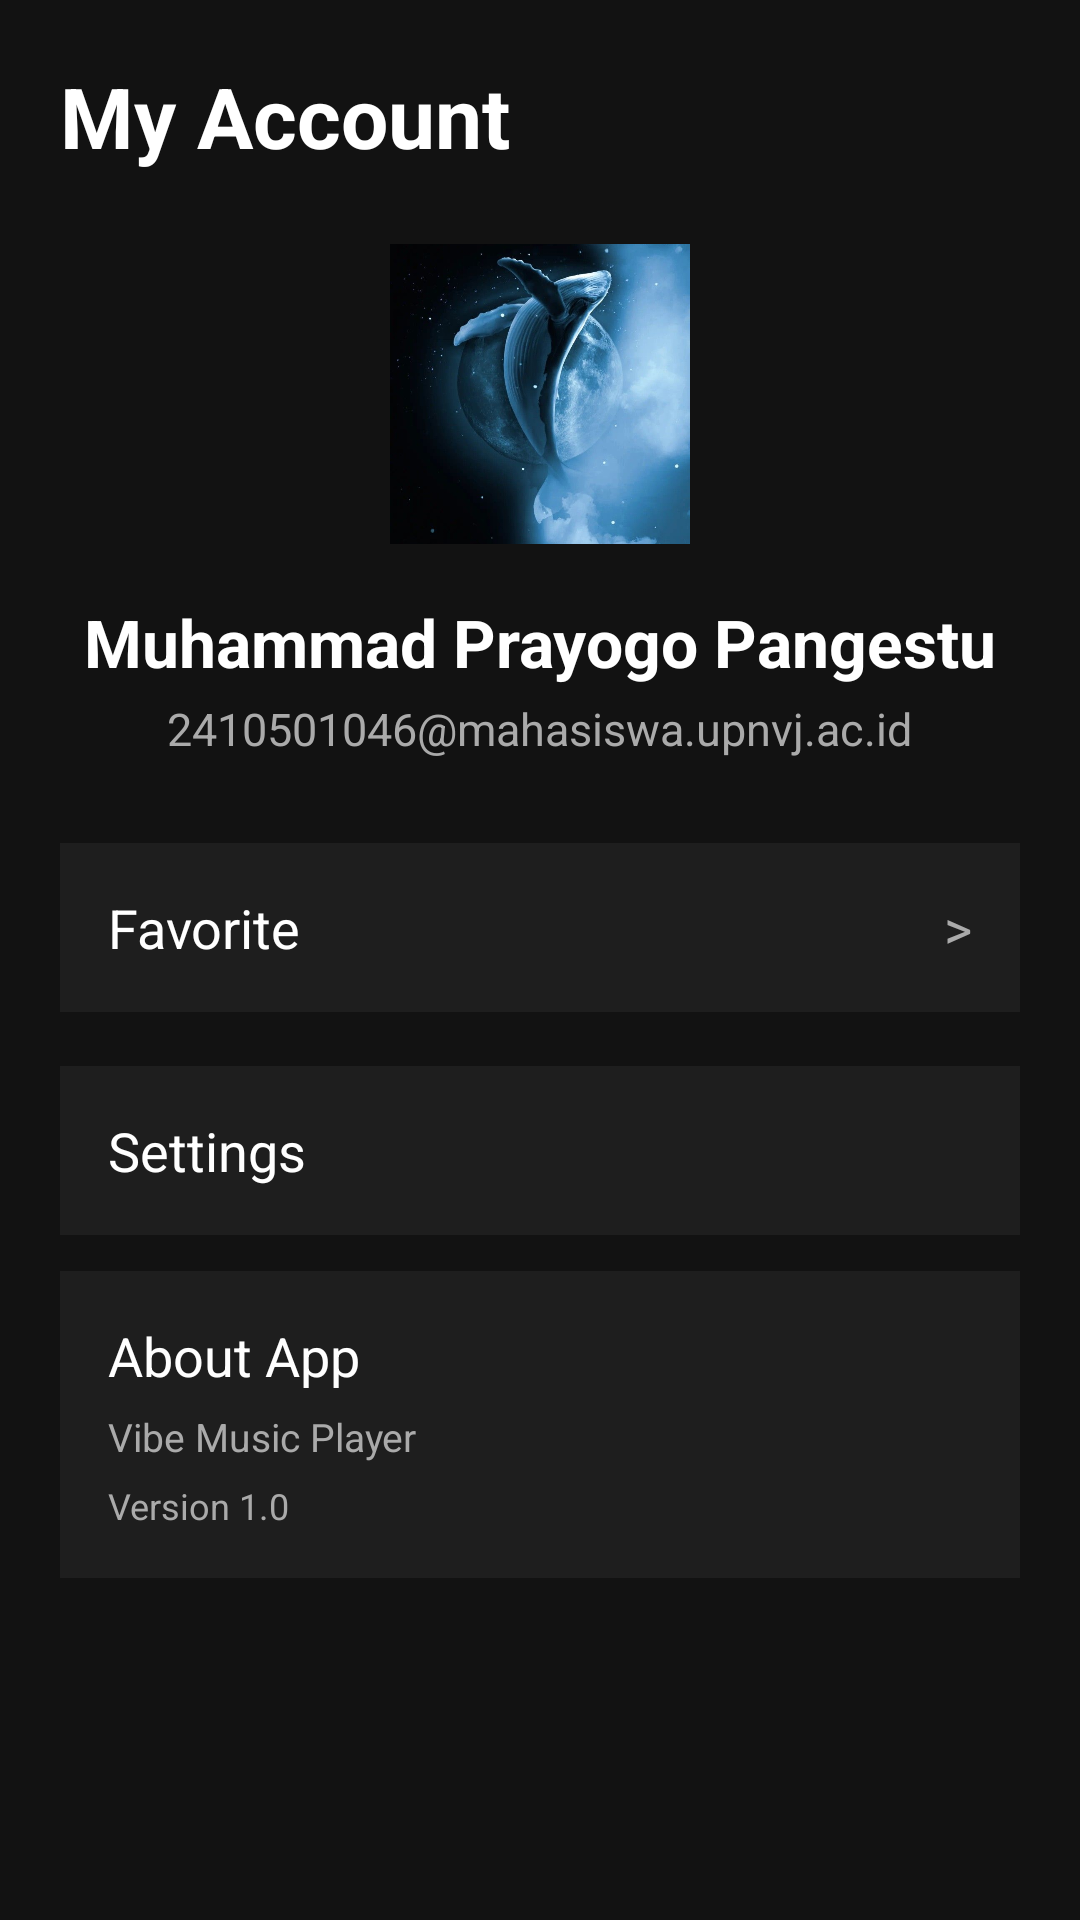

Screen size 1080w x 1920h. Icon name, then its box in pixels as (x1, y1, x2, y2):
profile: (397, 244, 690, 544)
